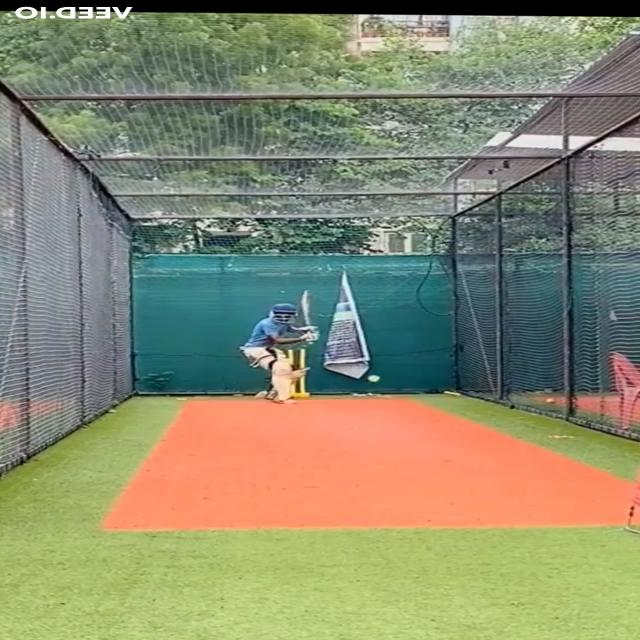ball: (366, 374, 383, 384)
stump: (286, 348, 308, 398)
